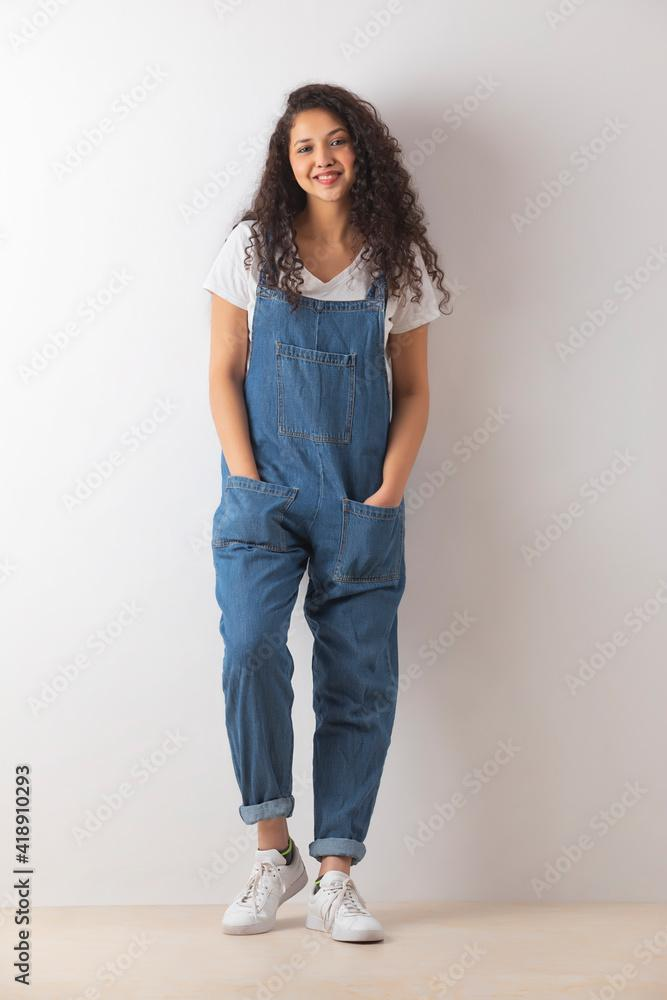Human: (184, 71, 466, 974)
